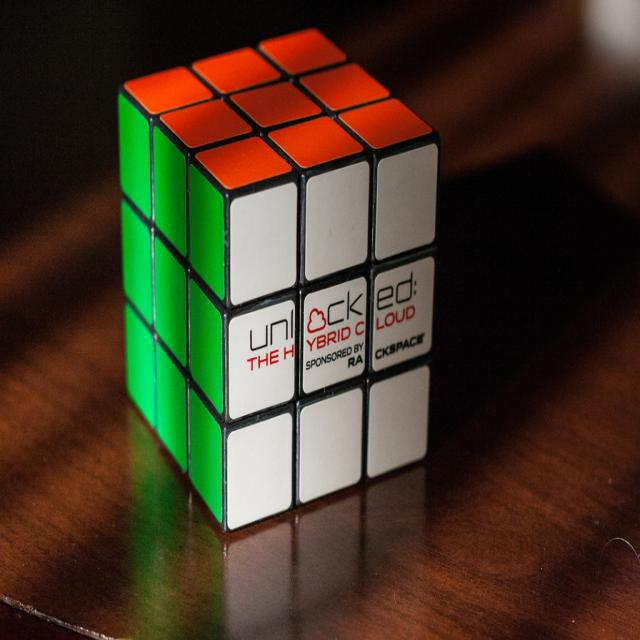Toy: (118, 27, 440, 531)
